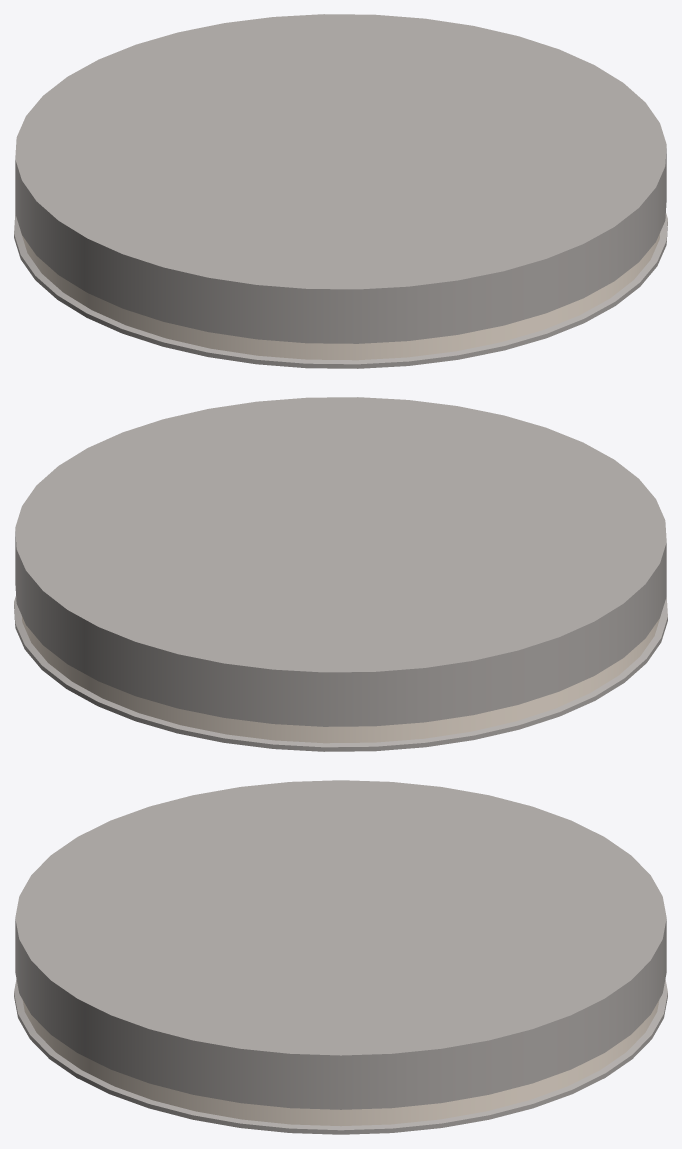
The model's file is Peana_MEI.glb.
The picture shows the model from 3 angles, top to bottom: view 1: azimuth 30°, elevation 25°; view 2: azimuth 150°, elevation 25°; view 3: azimuth 270°, elevation 25°; orthographic projection.
Visible parts, largest first — view 1: Cylinder041; view 2: Cylinder041; view 3: Cylinder041.
Boxes of the visible parts, left/top/right/bottom form: Cylinder041: left=14, top=14, right=667, bottom=368; Cylinder041: left=14, top=397, right=667, bottom=751; Cylinder041: left=14, top=780, right=667, bottom=1134.
Size of the model in its own units: 1.51 by 0.2 by 1.51.
